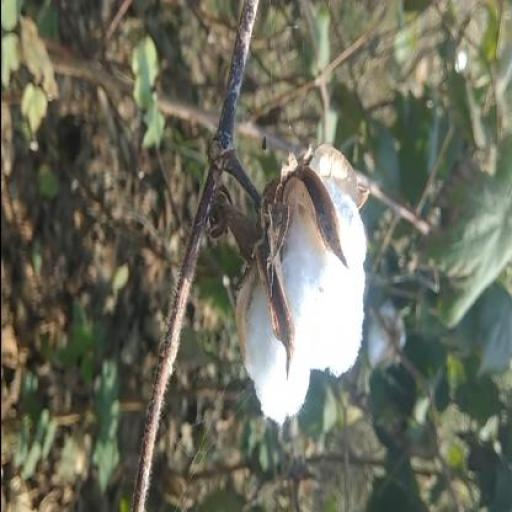cotton_ready: (179, 115, 379, 413)
